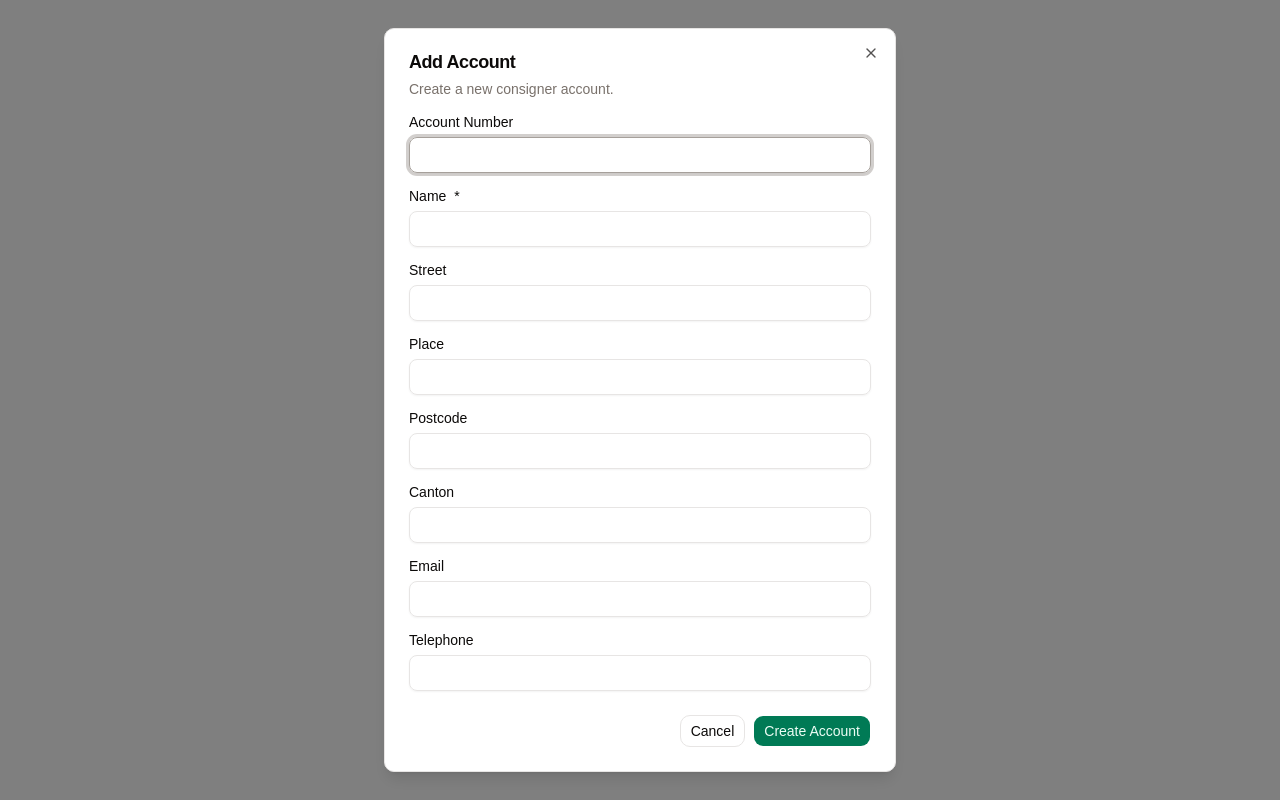
Test: AccountForm › validation errors › shows validation error for name when submitting with empty name
Type "42" into the field labelled "Account Number".
click(640, 155); type("42")  # box [409,137,871,173]
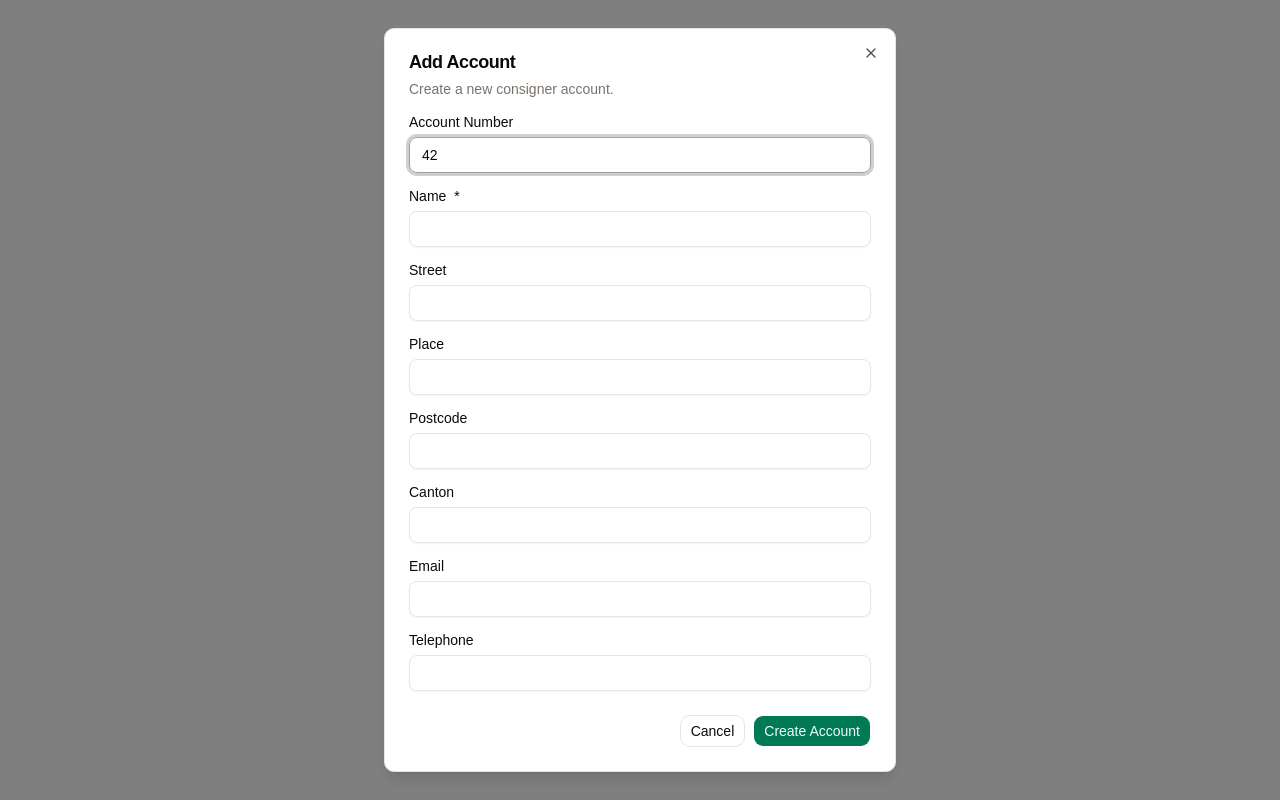
Submit the form, box [409,115,871,747]
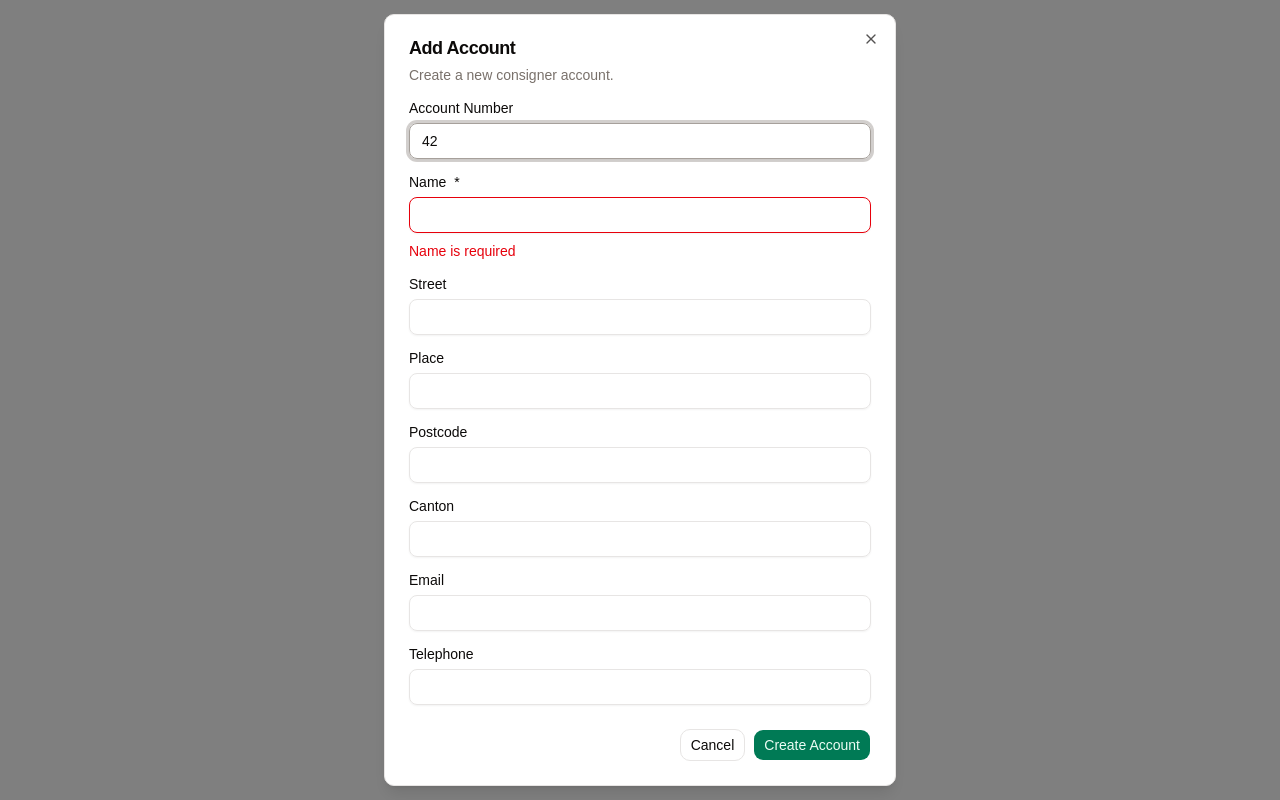
Expected: the text "Name is required" is shown, [409,243,516,259]
